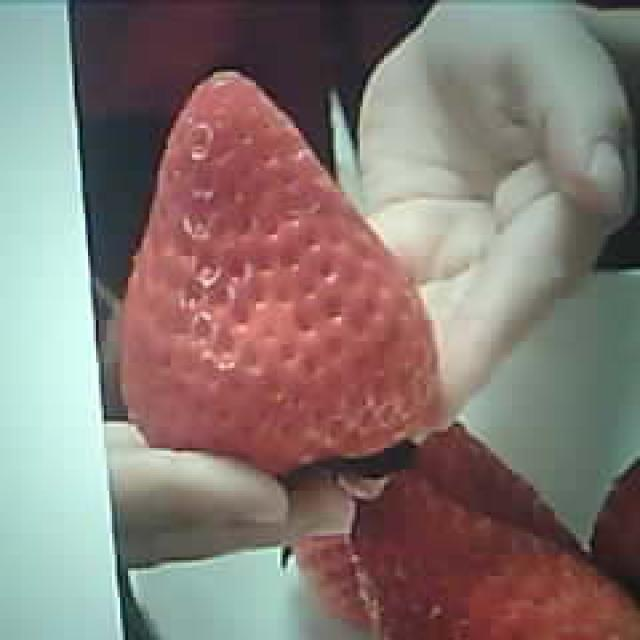Healthy Fruit: (117, 66, 444, 477)
